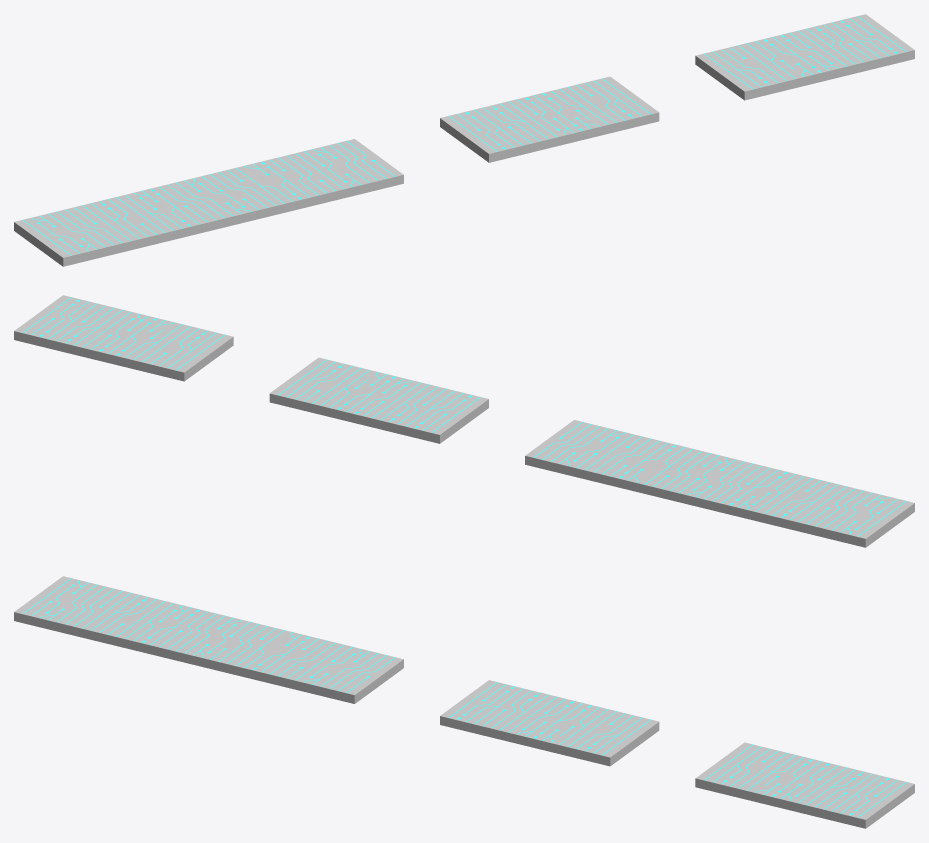
Rendered from floor_metallic7.glb.
3 renders of one model, top to bottom at view 1: azimuth 30°, elevation 25°; view 2: azimuth 150°, elevation 25°; view 3: azimuth 330°, elevation 25°, orthographic.
Visible parts, largest first — view 1: Cube.006, StraightLine.017; view 2: Cube.006, StraightLine.017; view 3: Cube.006, StraightLine.017.
Boxes of the visible parts, x1=… form: Cube.006: x1=14, y1=14, x2=914, y2=266; StraightLine.017: x1=22, y1=16, x2=906, y2=255; Cube.006: x1=14, y1=295, x2=914, y2=547; StraightLine.017: x1=22, y1=297, x2=906, y2=536; Cube.006: x1=14, y1=576, x2=914, y2=828; StraightLine.017: x1=22, y1=578, x2=906, y2=817.
Bounding box in the file's own units: 200 × 2.05 × 20.
